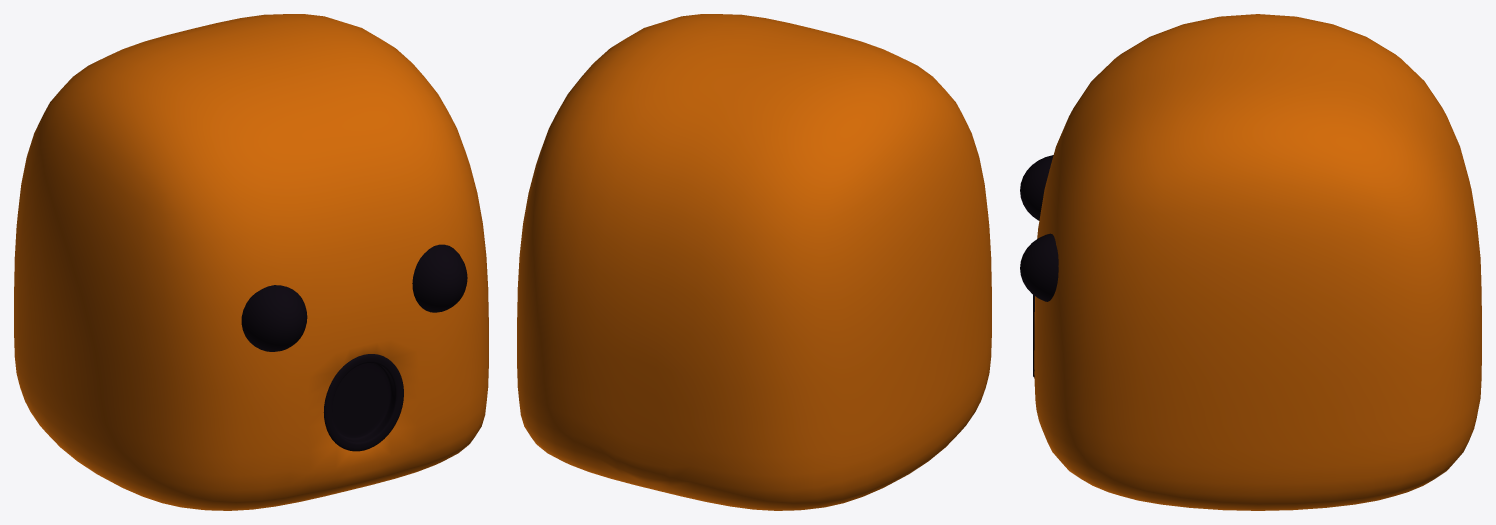
The model's file is Emoji 079 face with open mouth.fbx.
3 renders of one model, left to right at view 1: azimuth 30°, elevation 25°; view 2: azimuth 150°, elevation 25°; view 3: azimuth 270°, elevation 25°, orthographic.
Visible parts, largest first — view 1: Emoji 079 face with open mouth, Eyes.067, Cylinder.019; view 2: Emoji 079 face with open mouth; view 3: Emoji 079 face with open mouth, Eyes.067.
Boxes of the visible parts, box(x1,y1,x2,y2) form: Emoji 079 face with open mouth: box(14, 14, 488, 510); Eyes.067: box(241, 244, 467, 351); Cylinder.019: box(323, 354, 403, 451); Emoji 079 face with open mouth: box(517, 14, 991, 510); Emoji 079 face with open mouth: box(1034, 14, 1481, 510); Eyes.067: box(1020, 155, 1058, 301).
Size of the model in its own units: 95.83 by 103 by 95.83.
